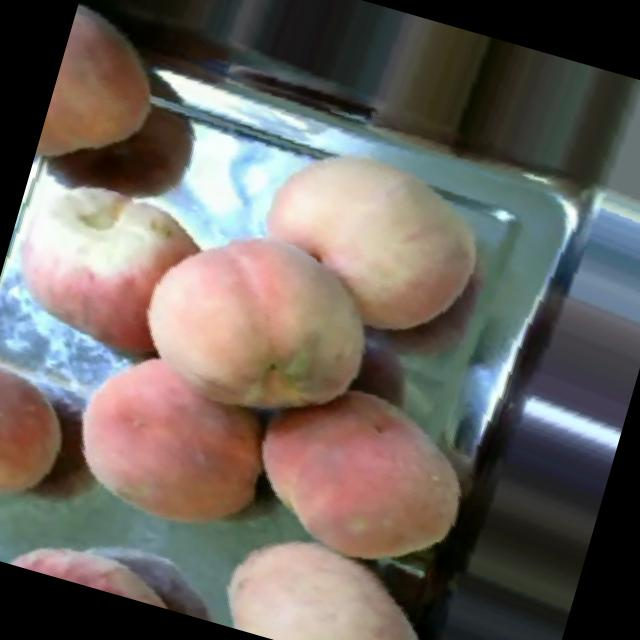Fruit: (114, 191, 406, 453), (230, 120, 510, 364), (224, 351, 496, 588), (48, 332, 300, 558), (203, 506, 462, 640), (31, 0, 186, 197), (0, 510, 212, 618), (0, 341, 95, 534)
